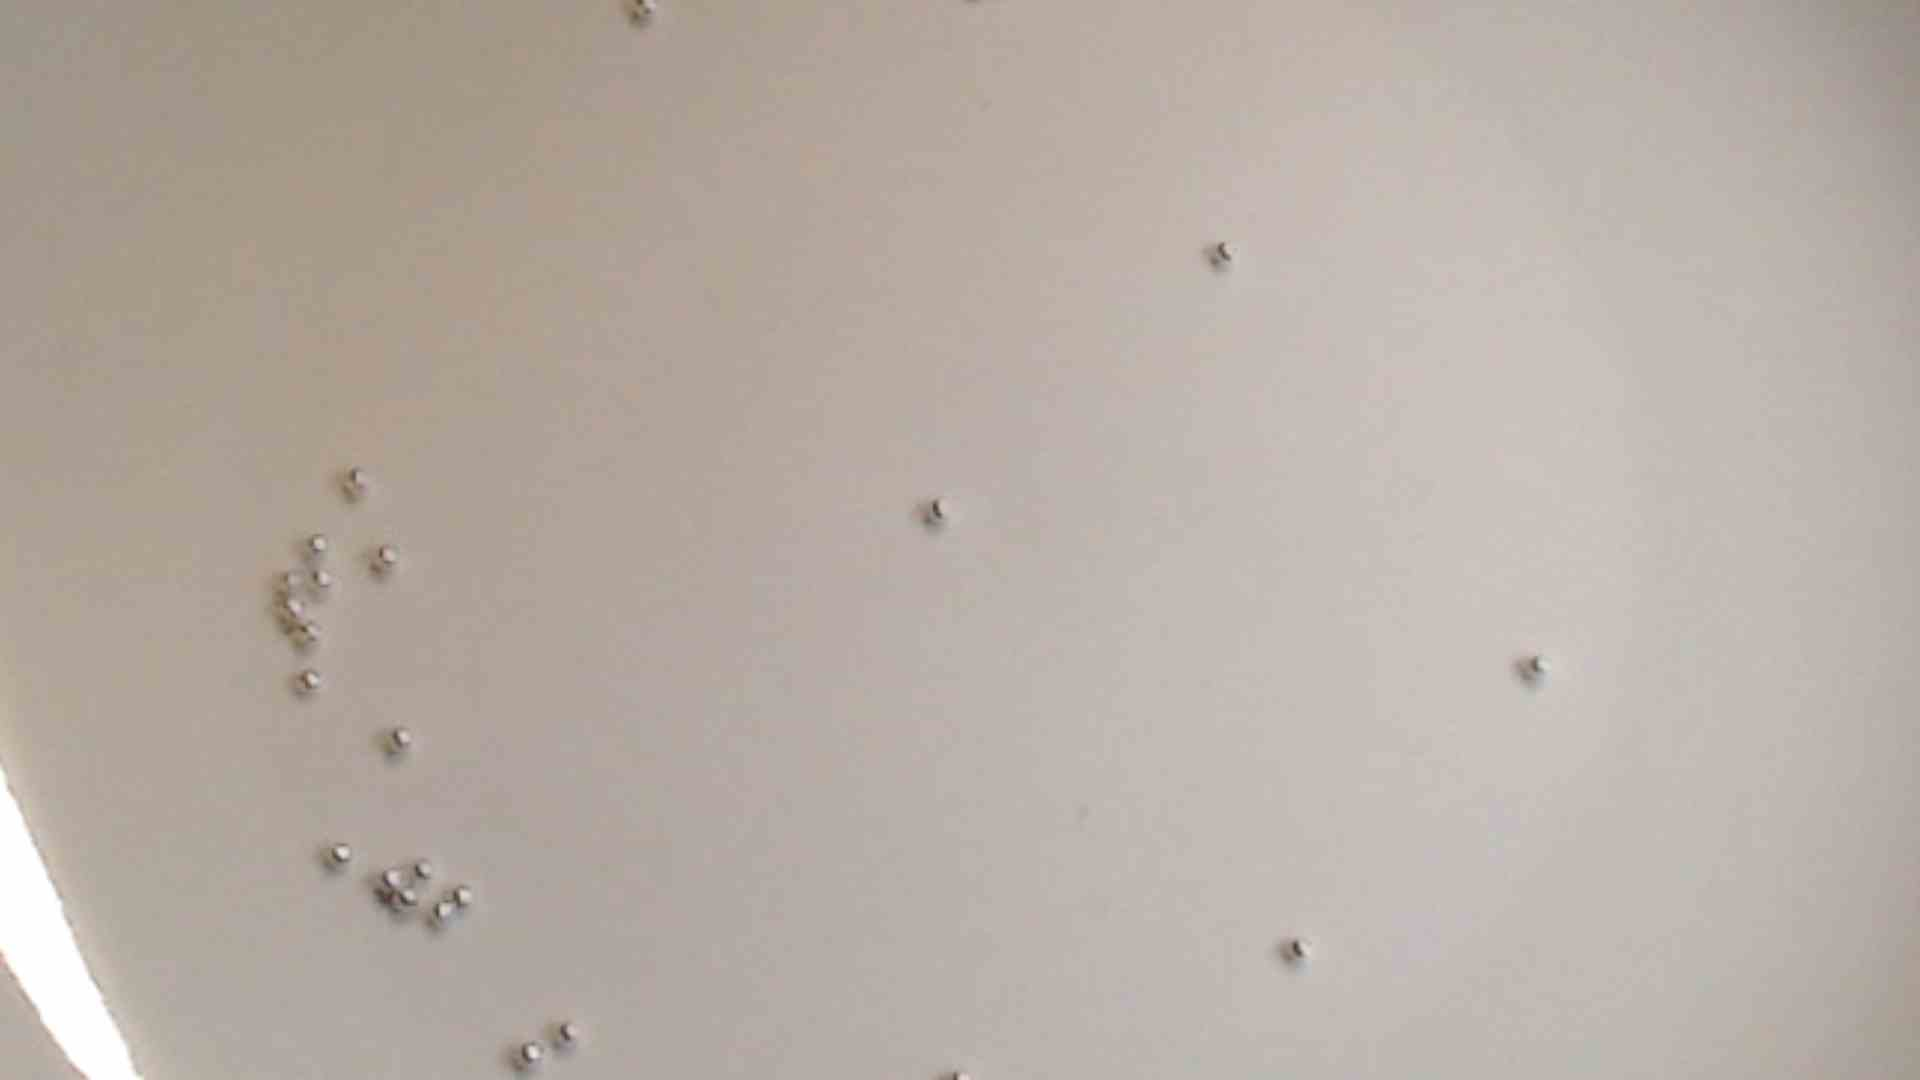chocolate: (286, 661, 324, 698), (1207, 237, 1244, 274), (513, 1035, 549, 1073), (342, 462, 377, 498), (622, 1, 665, 32), (272, 593, 309, 626), (320, 833, 353, 870), (303, 526, 338, 560), (1284, 928, 1313, 967), (553, 1013, 584, 1047), (920, 495, 951, 530), (291, 620, 324, 651), (1519, 645, 1548, 680), (371, 541, 404, 571), (427, 897, 458, 930), (409, 851, 438, 885), (376, 864, 406, 895), (309, 564, 338, 597), (384, 723, 413, 756), (448, 880, 479, 909), (276, 568, 303, 599), (392, 887, 419, 916)
